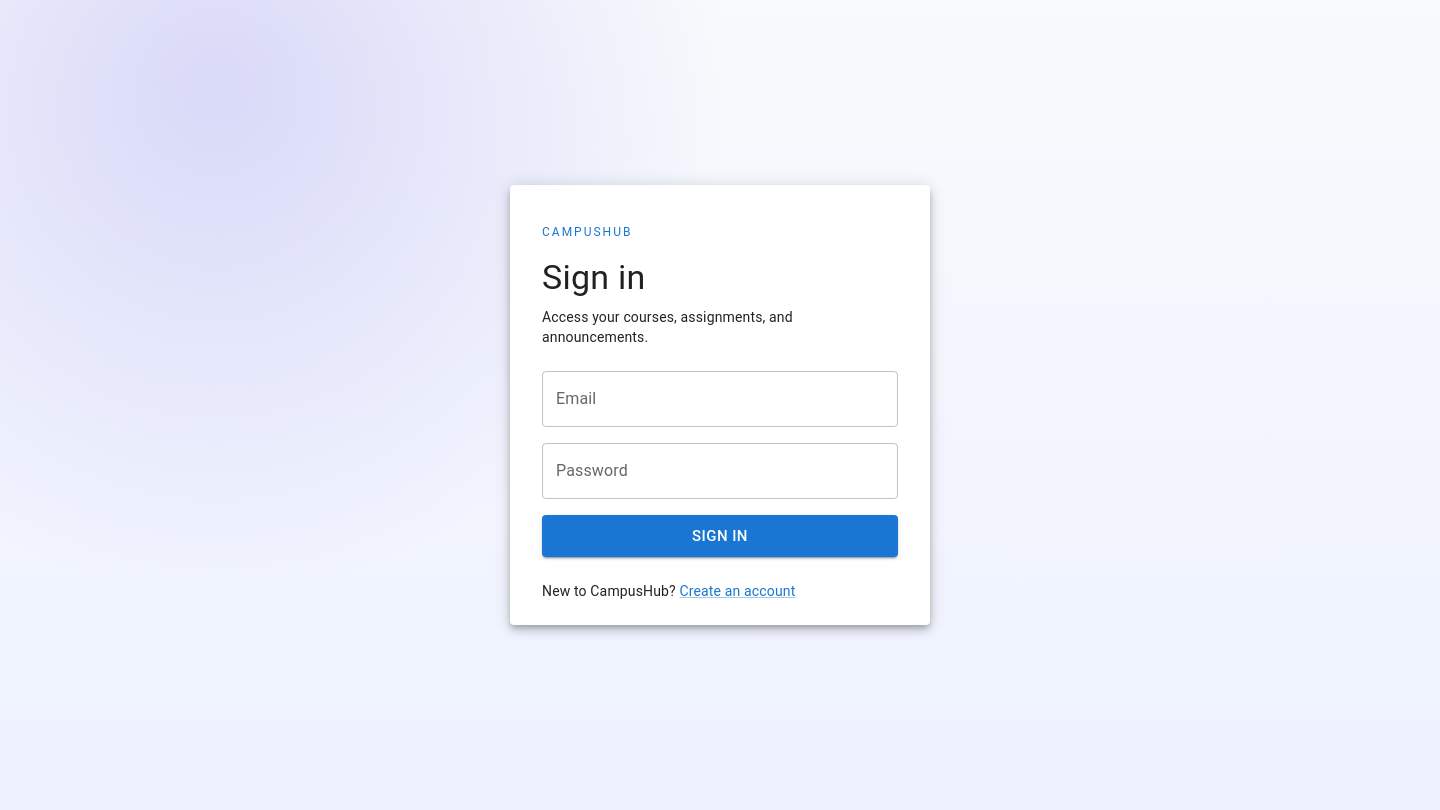
Scenario: authentication role switching › switches from instructor to admin without hitting /forbidden
In the field labelled "Email": (720, 399) [542,371,898,427], type "maya.chen@campushub.local"
In the password field labelled "Password": (720, 471) [542,443,898,499], type "DemoPass123!"
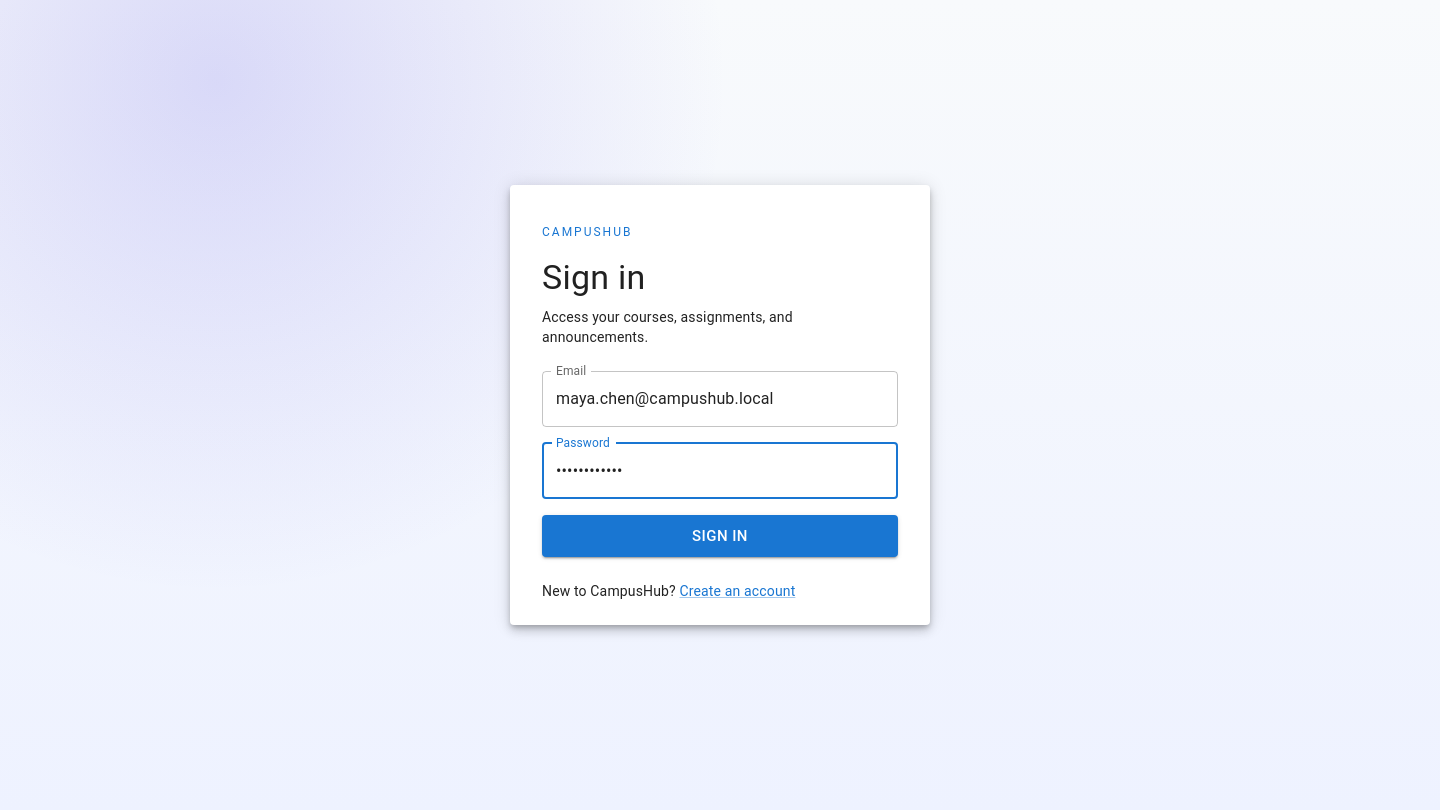
Click the button "Sign in": (720, 536) [542,515,898,557]
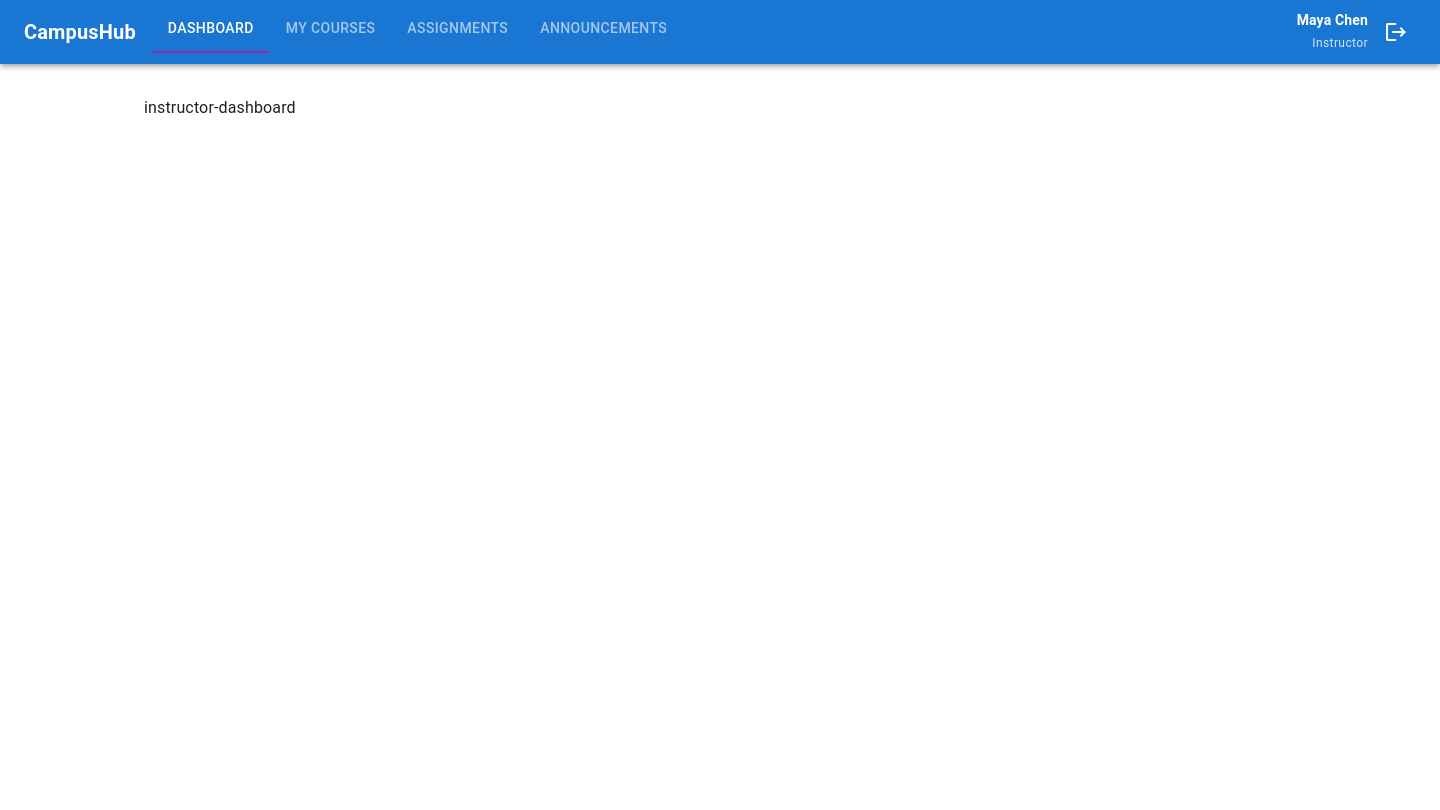
Check: the text "instructor-dashboard" is shown, box [144,98,296,117]
Click the button named "Sign out": (1396, 32) [1376,12,1416,52]
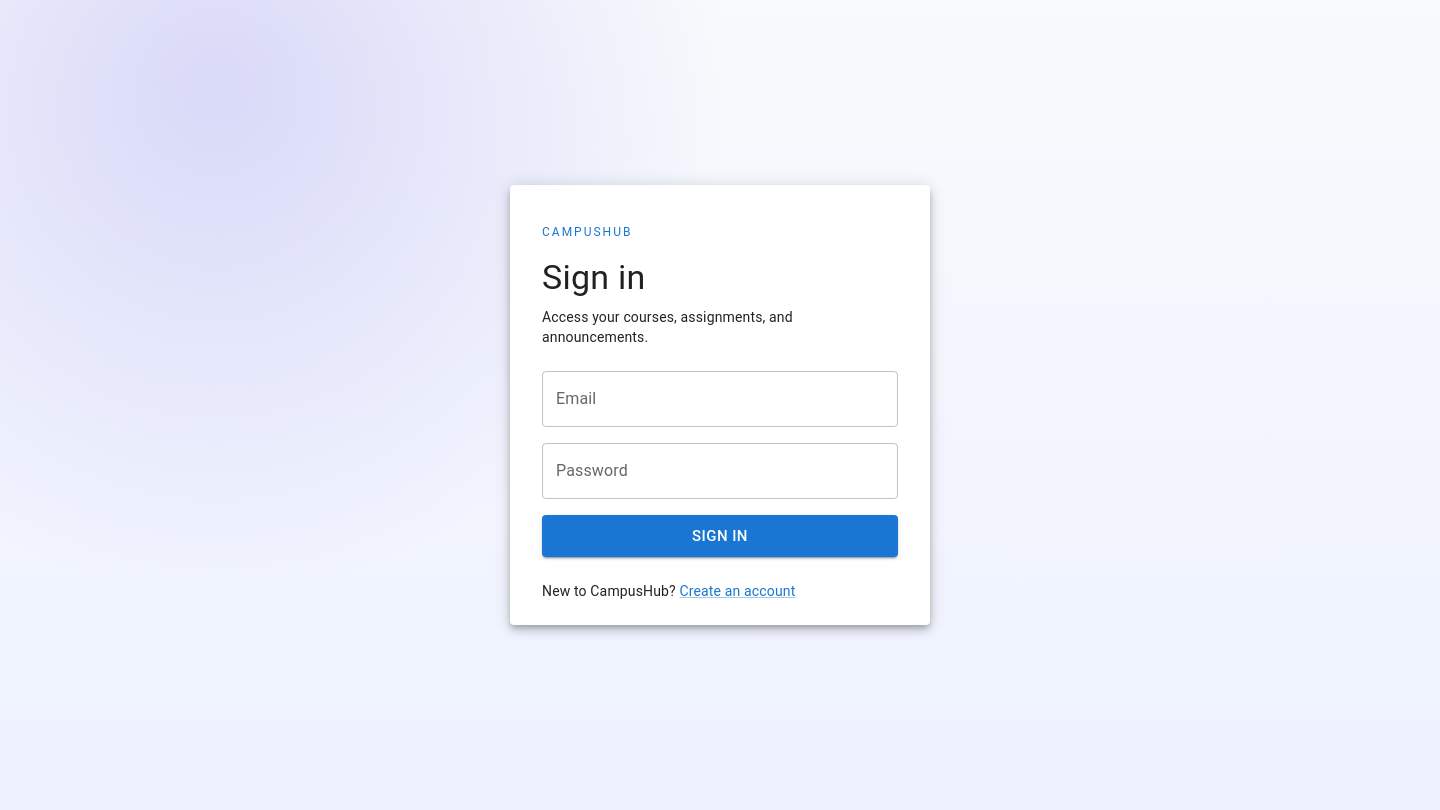
In the field labelled "Email": (720, 399) [542,371,898,427], type "admin@campushub.local"
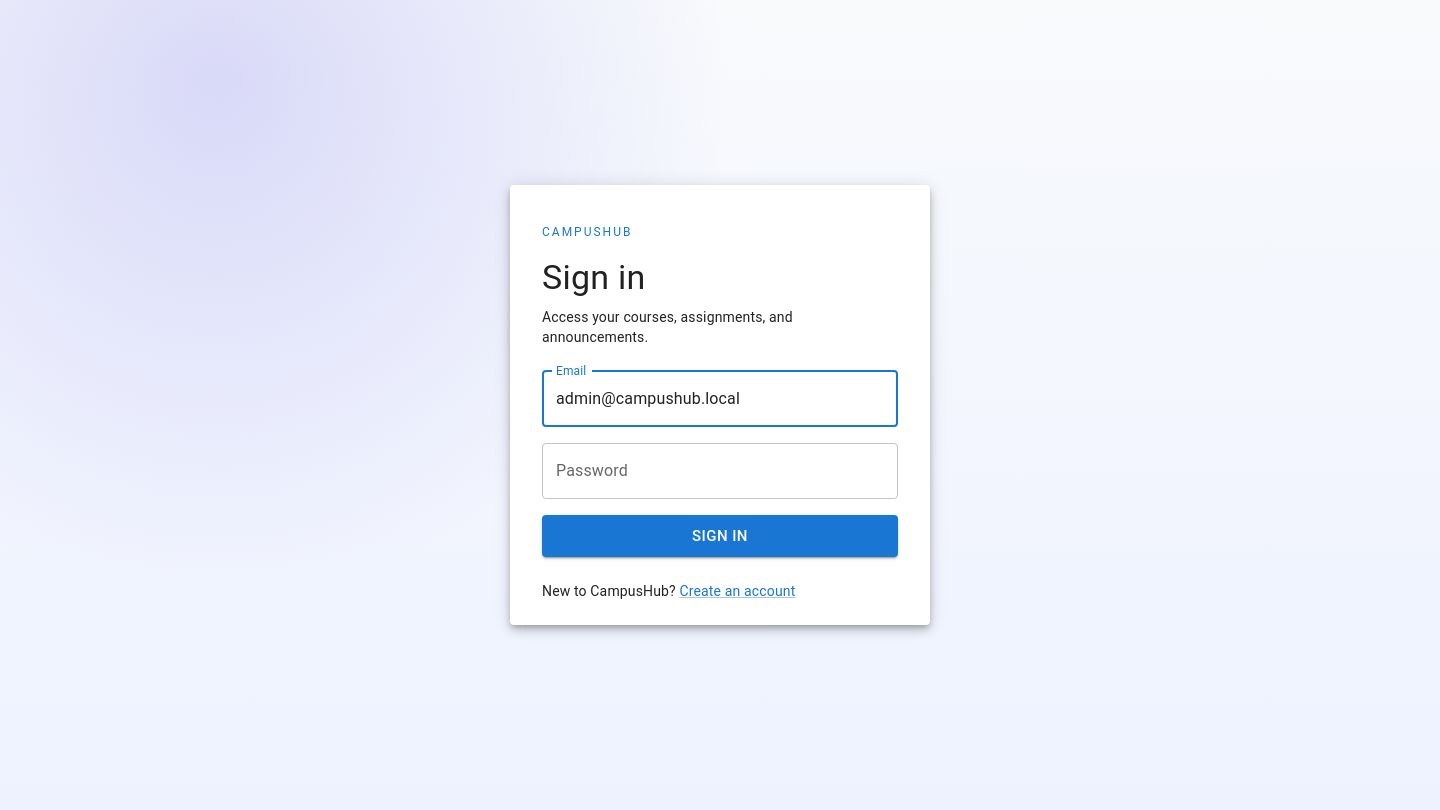
In the password field labelled "Password": (720, 471) [542,443,898,499], type "DemoPass123!"
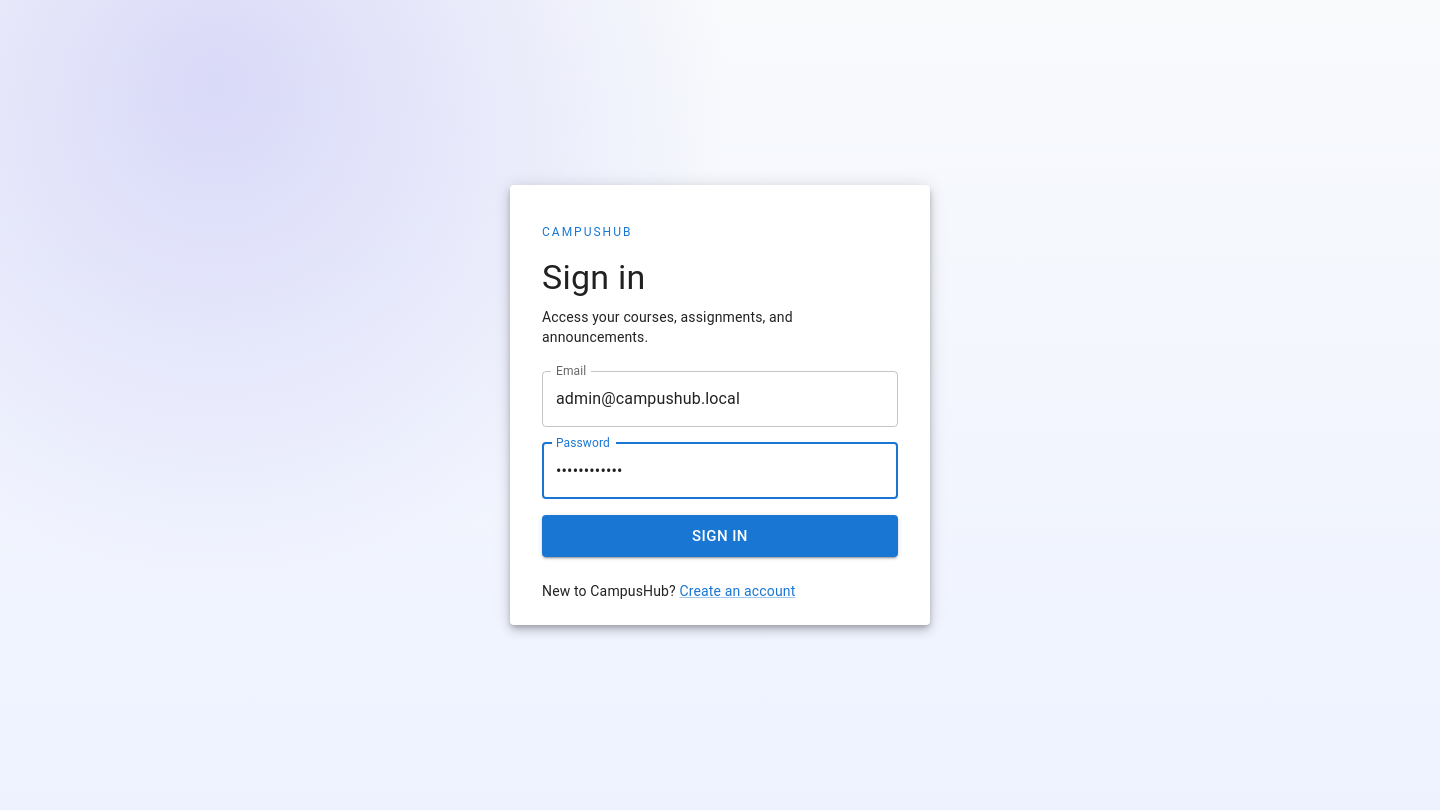
Click the button "Sign in": (720, 536) [542,515,898,557]
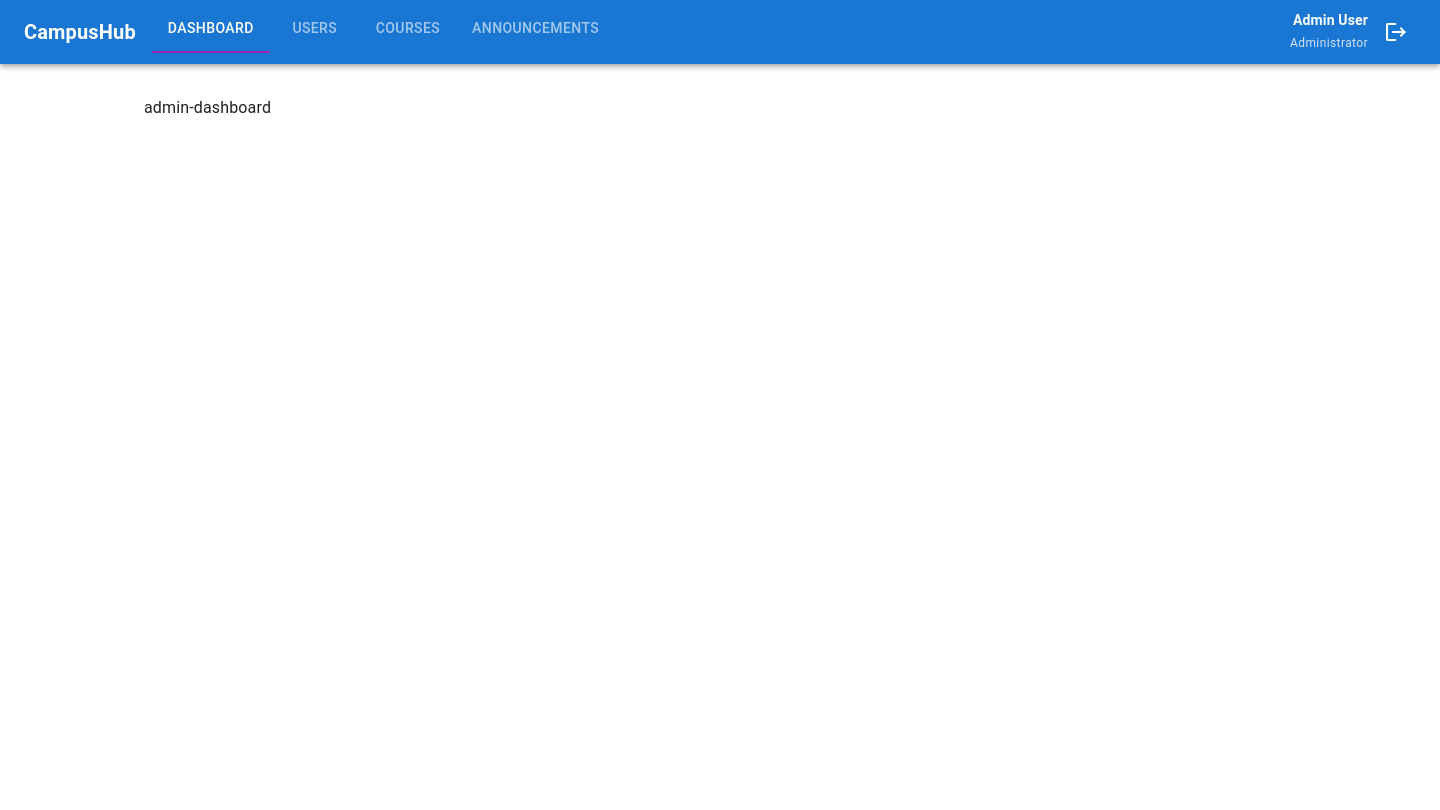
Check: the text "admin-dashboard" is shown, box [144,98,271,117]
